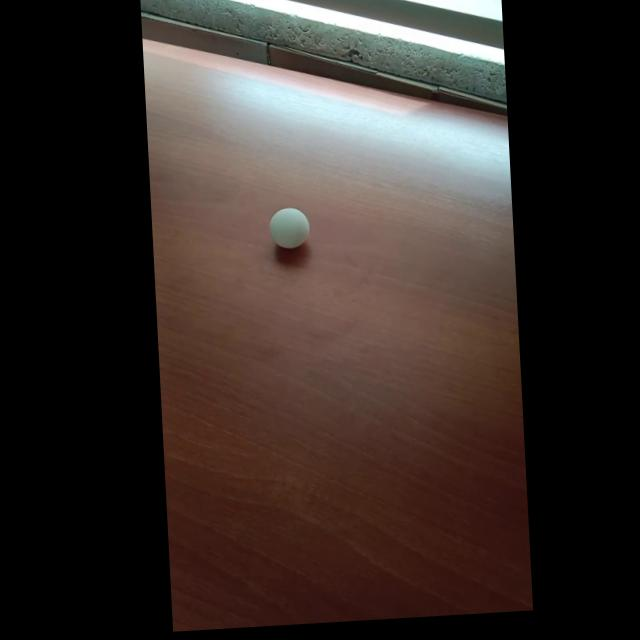white ball: (267, 205, 310, 250)
